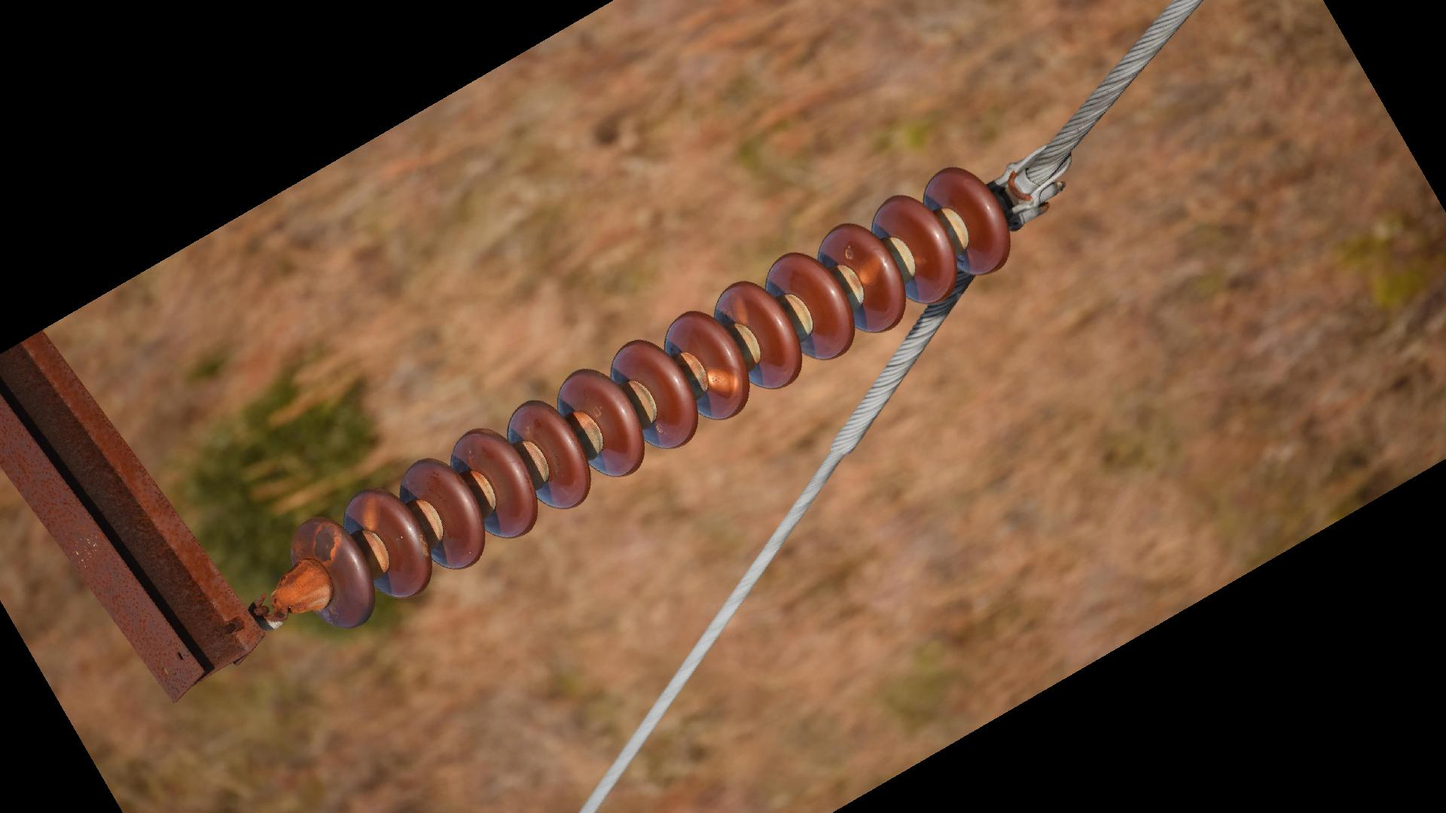insulator: (288, 160, 1016, 636)
insulator_flashover: (310, 520, 340, 563), (703, 365, 740, 399), (358, 492, 382, 532), (728, 291, 752, 328), (856, 252, 883, 284)
